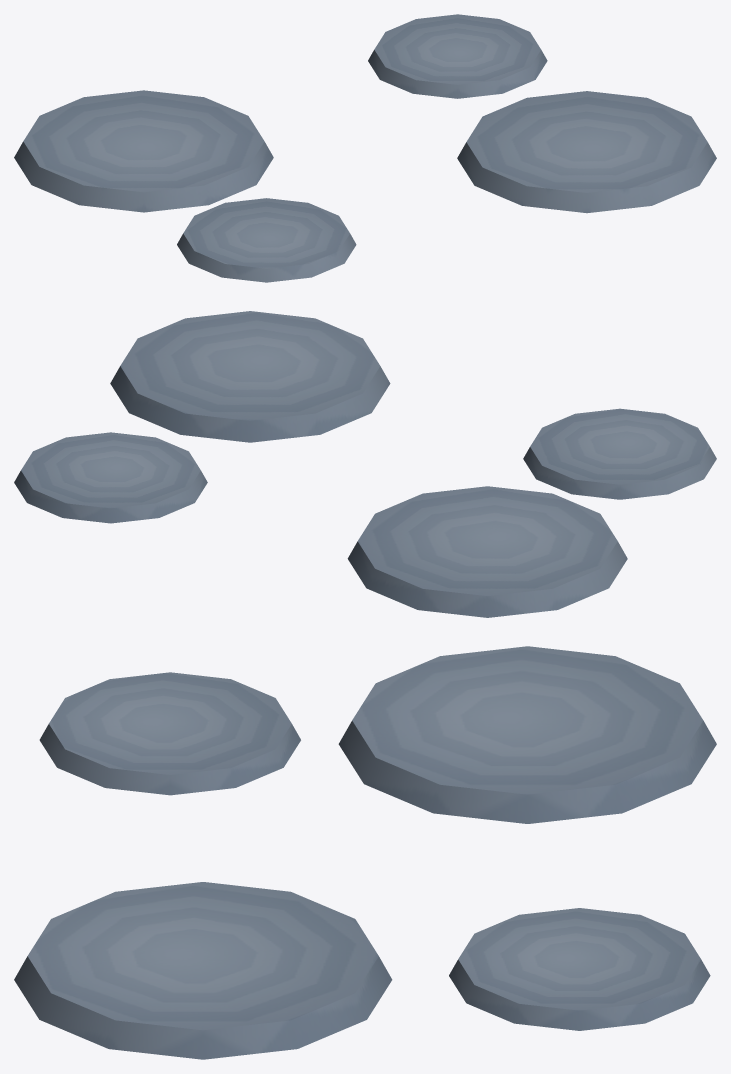
File: StoveTops.fbx
The picture shows the model from 3 angles, top to bottom: view 1: azimuth 30°, elevation 25°; view 2: azimuth 150°, elevation 25°; view 3: azimuth 270°, elevation 25°; orthographic projection. The views are drawn at different scales.
Visible parts, largest first — view 1: StoveTops; view 2: StoveTops; view 3: StoveTops.
Boxes of the visible parts, <box> form: StoveTops: <box>14,14,716,282</box>; StoveTops: <box>14,311,716,617</box>; StoveTops: <box>14,646,716,1059</box>.
Size of the model in its own units: 87.38 by 2.44 by 65.63.
